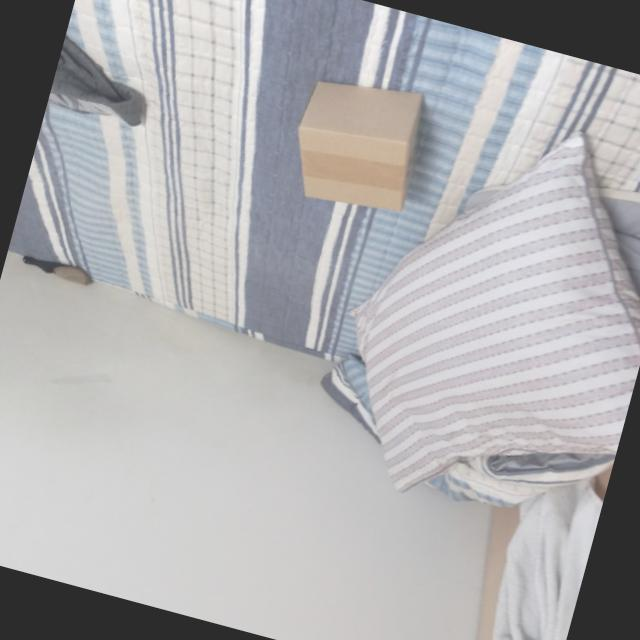box: (274, 60, 441, 228)
